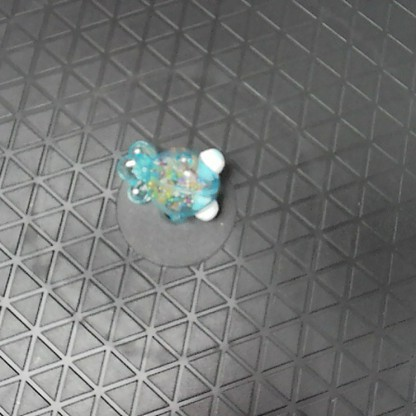bluefish: (115, 133, 227, 230)
